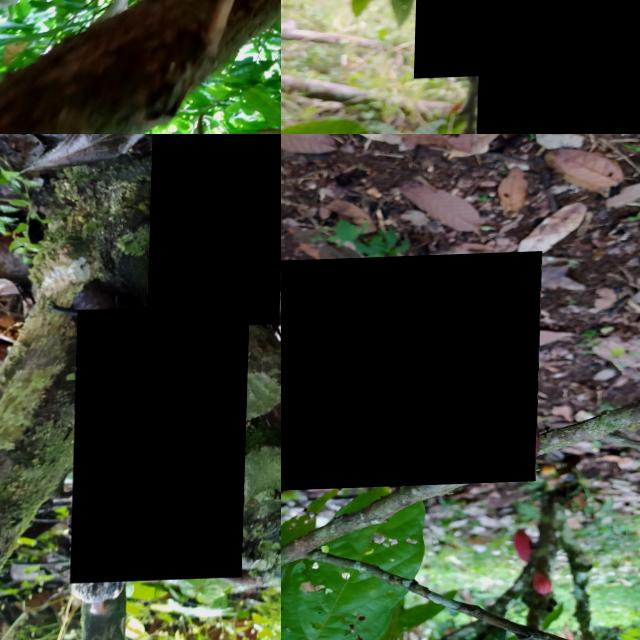Fitoftora: (74, 307, 251, 584)
Monilia: (281, 254, 543, 492), (148, 134, 281, 329), (479, 0, 640, 134)
Sana: (416, 0, 490, 79)
